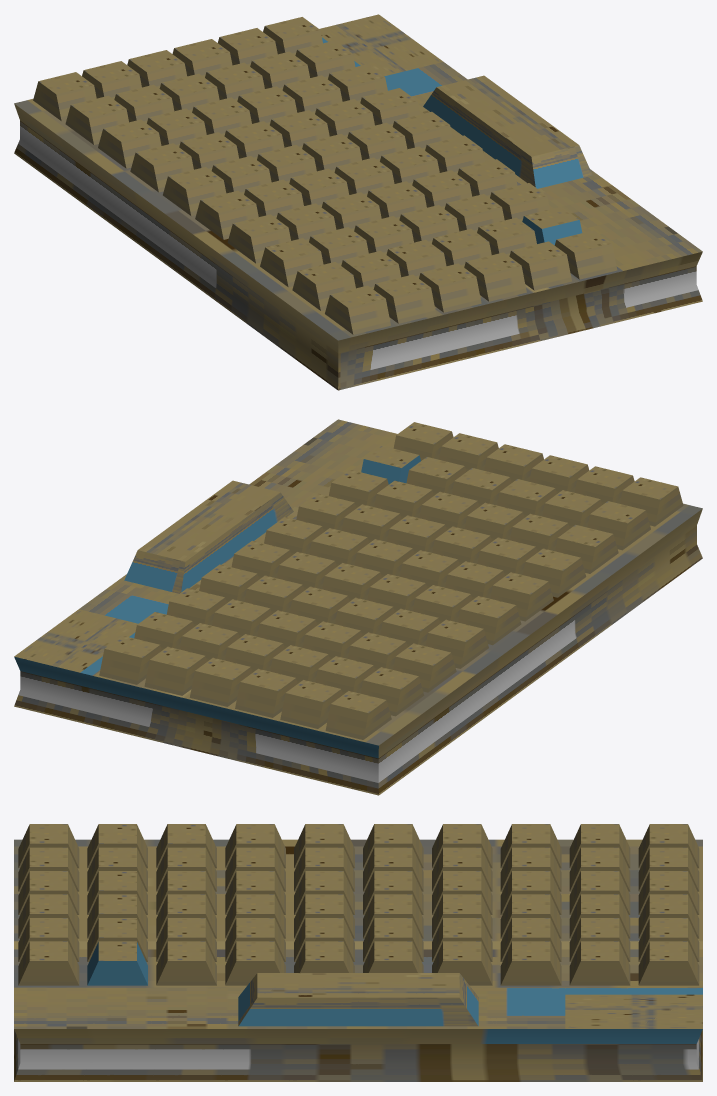
File: keyboard.fbx
3 views of the same model, one above another, from view 1: azimuth 30°, elevation 25°; view 2: azimuth 150°, elevation 25°; view 3: azimuth 270°, elevation 25° (orthographic). The views are drawn at different scales.
Visible parts, largest first — view 1: Cube.001; view 2: Cube.001; view 3: Cube.001.
Part boxes in pixels (bbox=[...]): Cube.001: bbox=[14, 14, 702, 390]; Cube.001: bbox=[14, 419, 702, 795]; Cube.001: bbox=[14, 824, 702, 1081].
Size of the model in its own units: 244 by 47.88 by 376.
